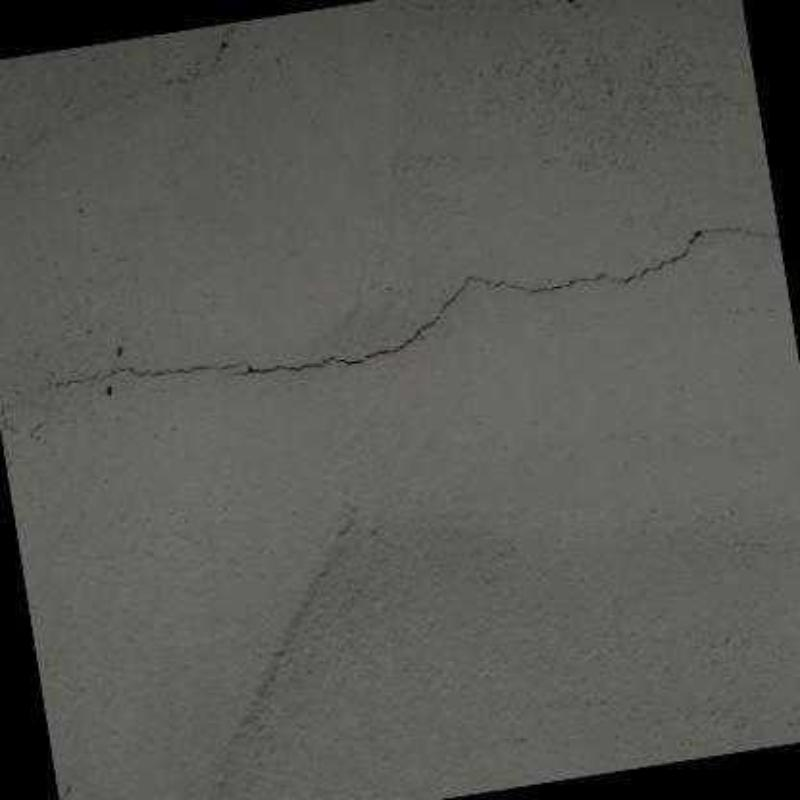pothole: (44, 225, 782, 393)
